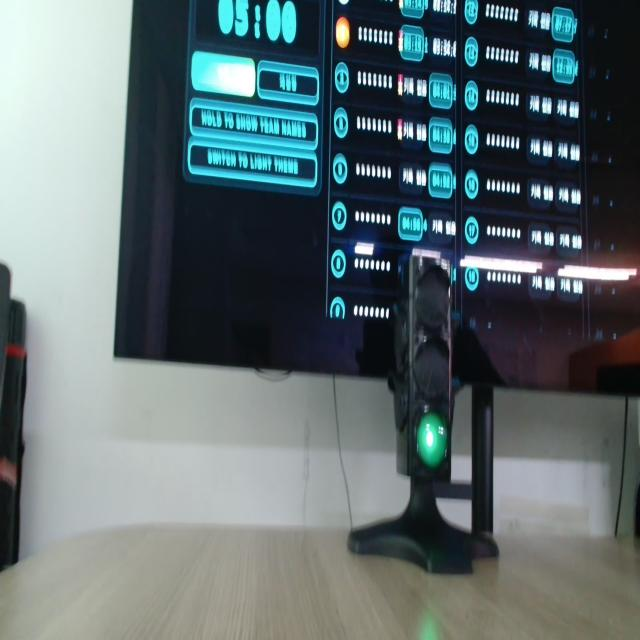green_light: (417, 412, 447, 468)
